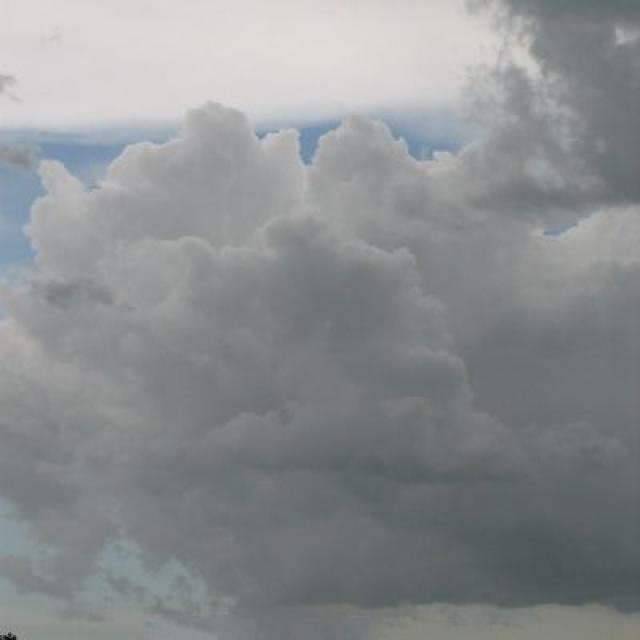Cu: (1, 40, 640, 475)
